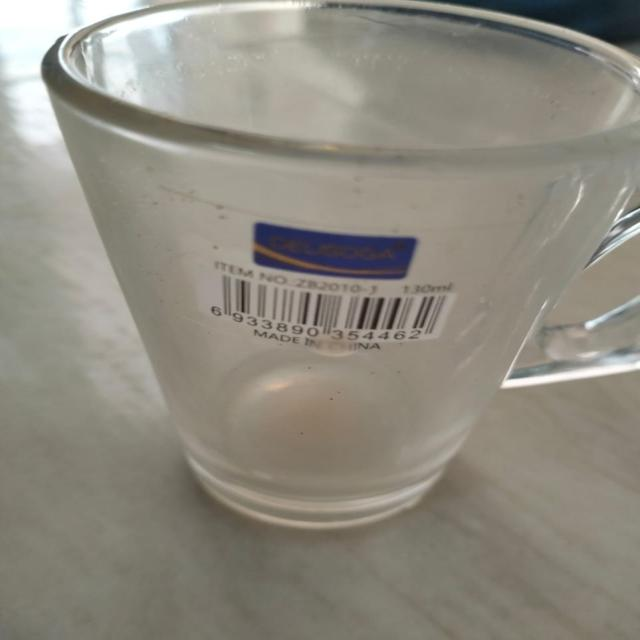glass-VX4N: (40, 0, 640, 538)
